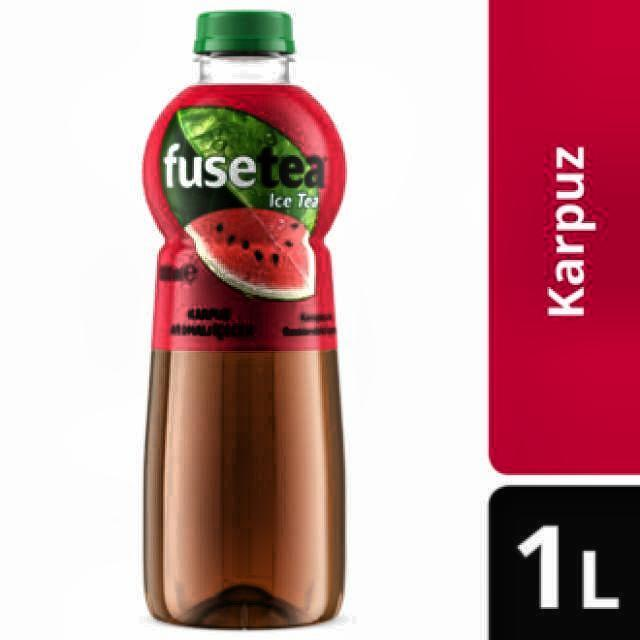plastic: (142, 11, 349, 635)
